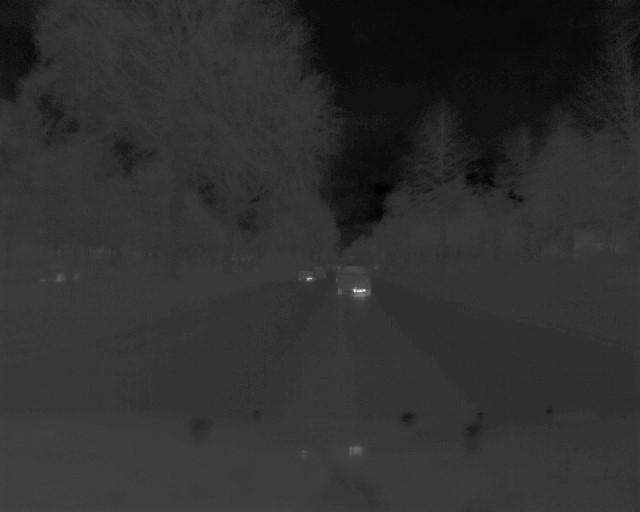car: (334, 264, 375, 301), (35, 259, 84, 287), (294, 268, 317, 284)
